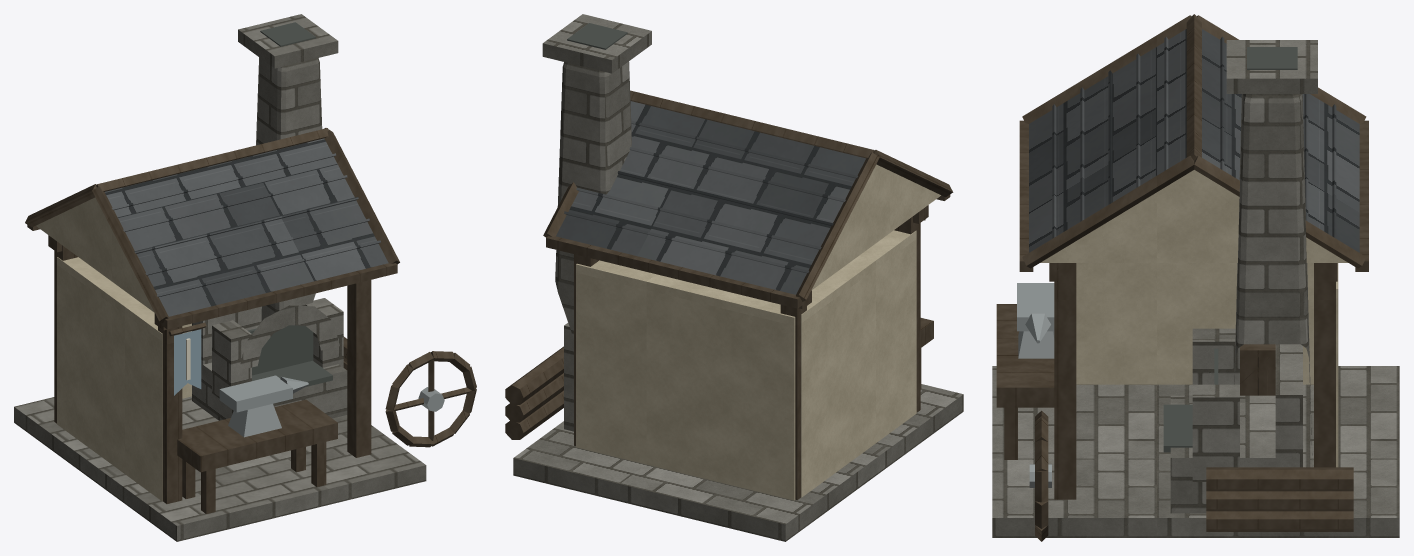
The model's file is workshop.gltf.
3 views of the same model, side by side, from view 1: azimuth 30°, elevation 25°; view 2: azimuth 150°, elevation 25°; view 3: azimuth 270°, elevation 25° (orthographic). The views are drawn at different scales.
Parts seen in each view (by area): view 1: AdvancedBuilding_workshop; view 2: AdvancedBuilding_workshop; view 3: AdvancedBuilding_workshop.
Boxes of the visible parts, bbox=[...] form: AdvancedBuilding_workshop: bbox=[14, 14, 476, 541]; AdvancedBuilding_workshop: bbox=[505, 14, 963, 541]; AdvancedBuilding_workshop: bbox=[992, 14, 1399, 541].
Size of the model in its own units: 2.75 by 3.02 by 2.4.
Materials: 6 (4 with a texture image).
